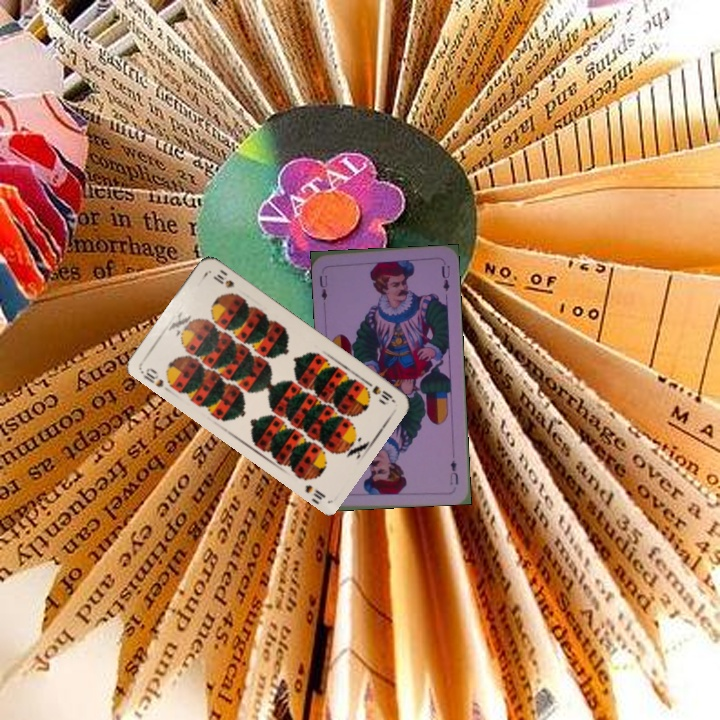EU: (315, 271, 330, 306), (446, 456, 461, 487)
S10: (361, 376, 397, 405), (139, 363, 166, 390)
